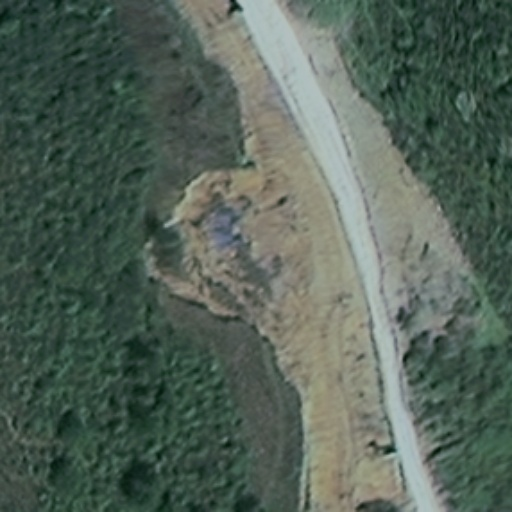landslide: (151, 170, 334, 319)
